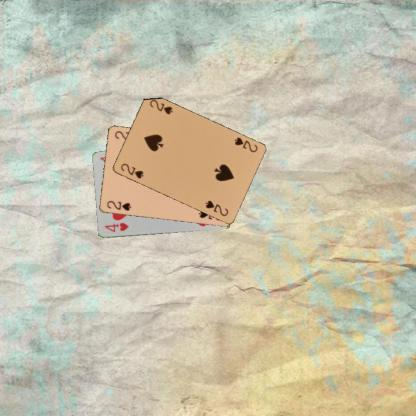2s: (231, 134, 259, 154), (118, 161, 144, 180), (104, 198, 132, 212)
4h: (102, 220, 130, 234)
